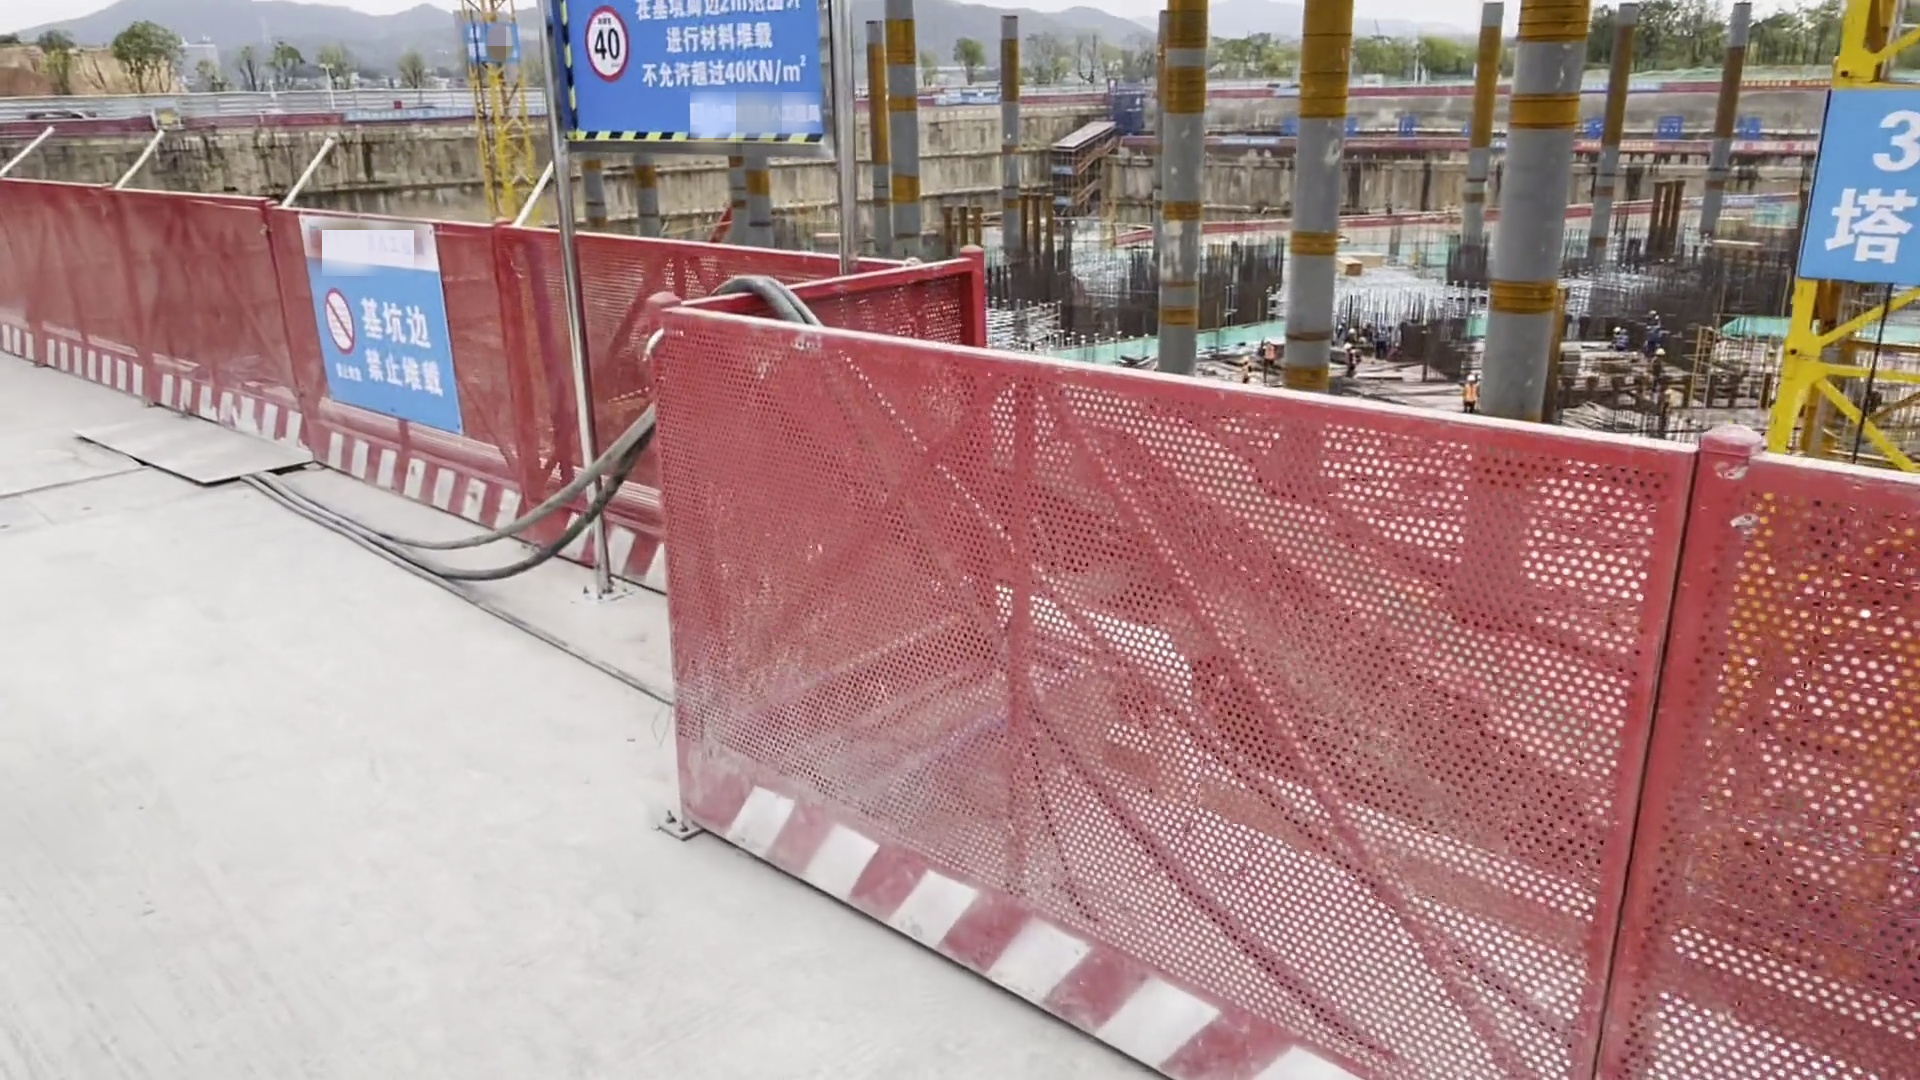helmet: (1343, 342, 1355, 349), (1263, 335, 1273, 345), (1655, 347, 1665, 356), (1465, 374, 1476, 381), (1615, 325, 1621, 335)
person: (1460, 372, 1482, 414), (1261, 334, 1278, 381), (1340, 340, 1358, 377), (1612, 321, 1631, 355), (1650, 345, 1668, 373)
vest: (1464, 383, 1479, 402), (1265, 344, 1276, 361), (1618, 334, 1627, 347)
